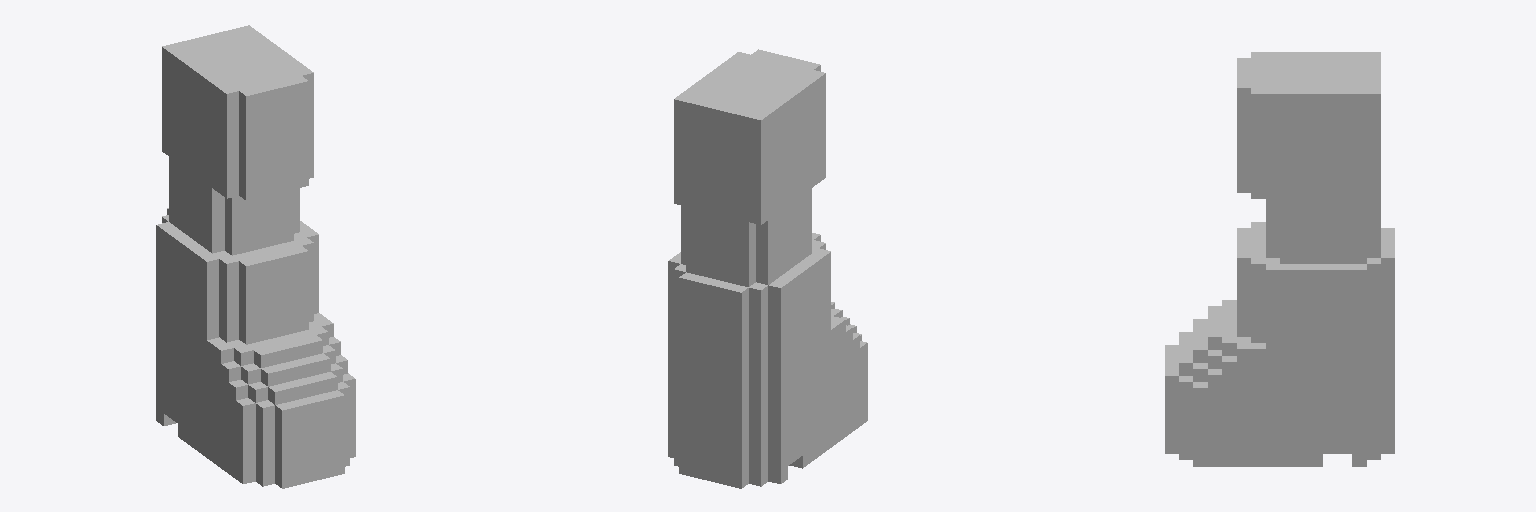
Rendered from enemy-1.obj.
The picture shows the model from 3 angles: view 1: azimuth 30°, elevation 25°; view 2: azimuth 150°, elevation 25°; view 3: azimuth 270°, elevation 25°; orthographic projection.
Parts seen in each view (by area): view 1: object 1; view 2: object 1; view 3: object 1.
Part boxes in pixels (left/top/right/bottom): object 1: left=156, top=25, right=355, bottom=488; object 1: left=668, top=49, right=867, bottom=488; object 1: left=1165, top=52, right=1394, bottom=466.
Bounding box in the file's own units: 0.9 × 2.8 × 1.6.